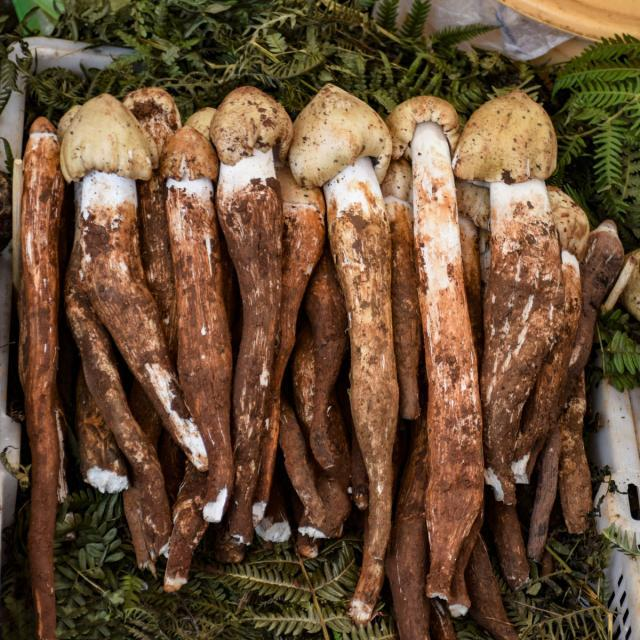Collybia albuminosa: (62, 97, 235, 458), (294, 83, 404, 614), (455, 90, 557, 588), (391, 94, 486, 597), (153, 122, 253, 538), (215, 83, 293, 546), (19, 107, 63, 639)
